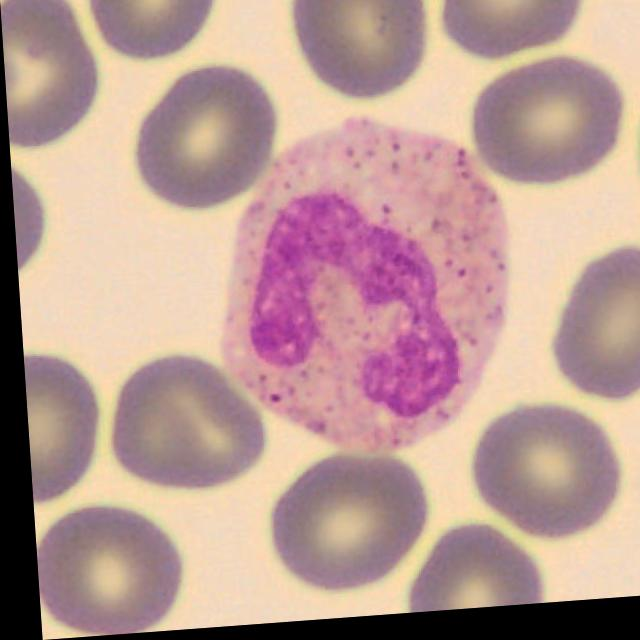Neutrofilo segmentado: (214, 122, 510, 463)
